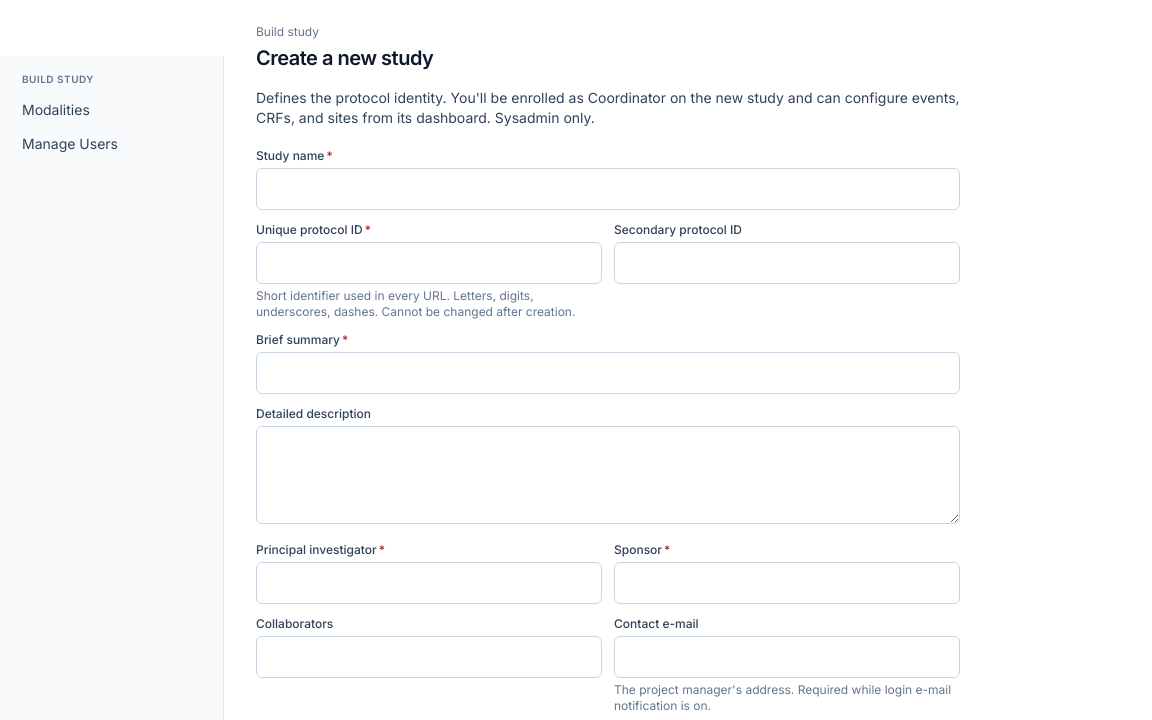
CreateStudyView — pre-submit validation › shows the server’s verdict on a malformed contact e-mail next to the field
Type "Glaucoma Cohort" into the field with id "study-name".
click(608, 189); type("Glaucoma Cohort")  # box [256,168,960,210]
Type "GLAU01" into the field with id "study-uid".
click(429, 263); type("GLAU01")  # box [256,242,602,284]
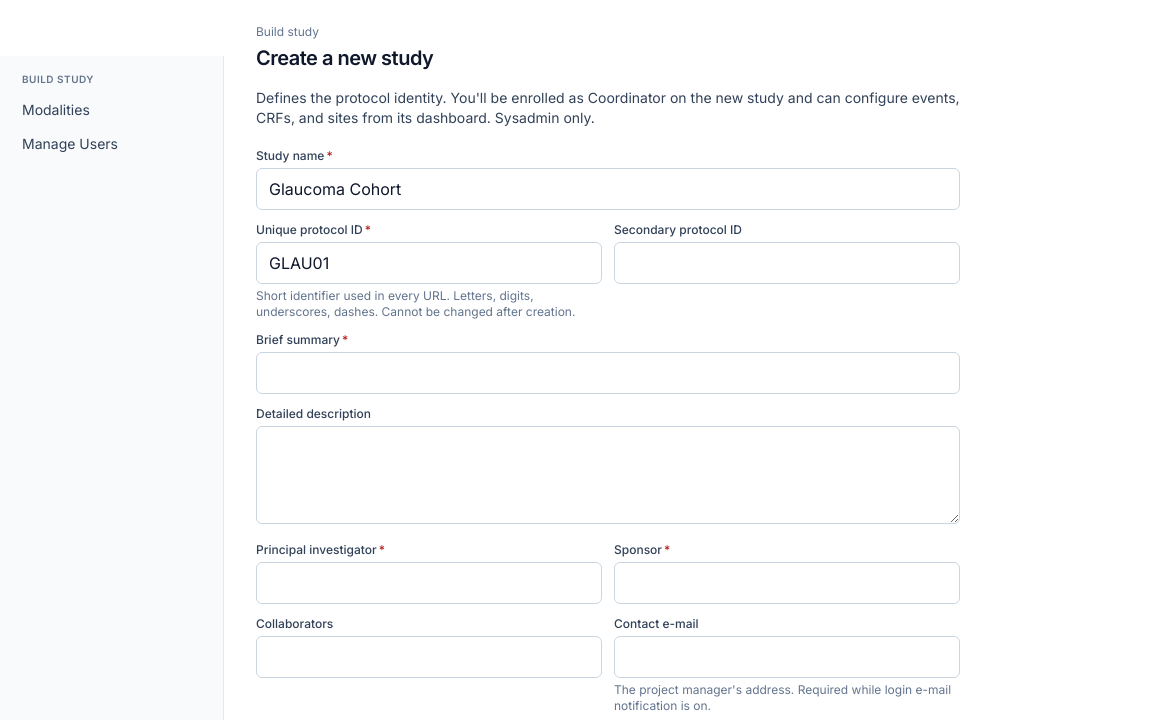
Type "A study" into the field with id "study-summary".
click(608, 373); type("A study")  # box [256,352,960,394]
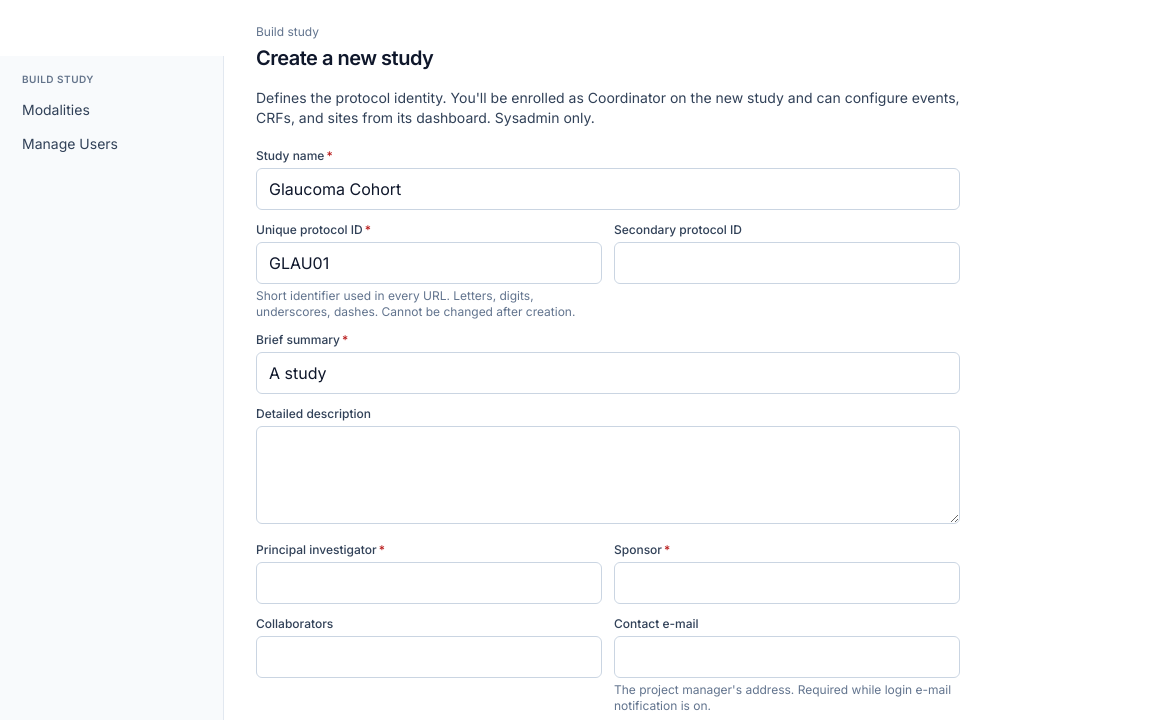
Type "Dr. Vision" into the field with id "study-pi".
click(429, 583); type("Dr. Vision")  # box [256,562,602,604]
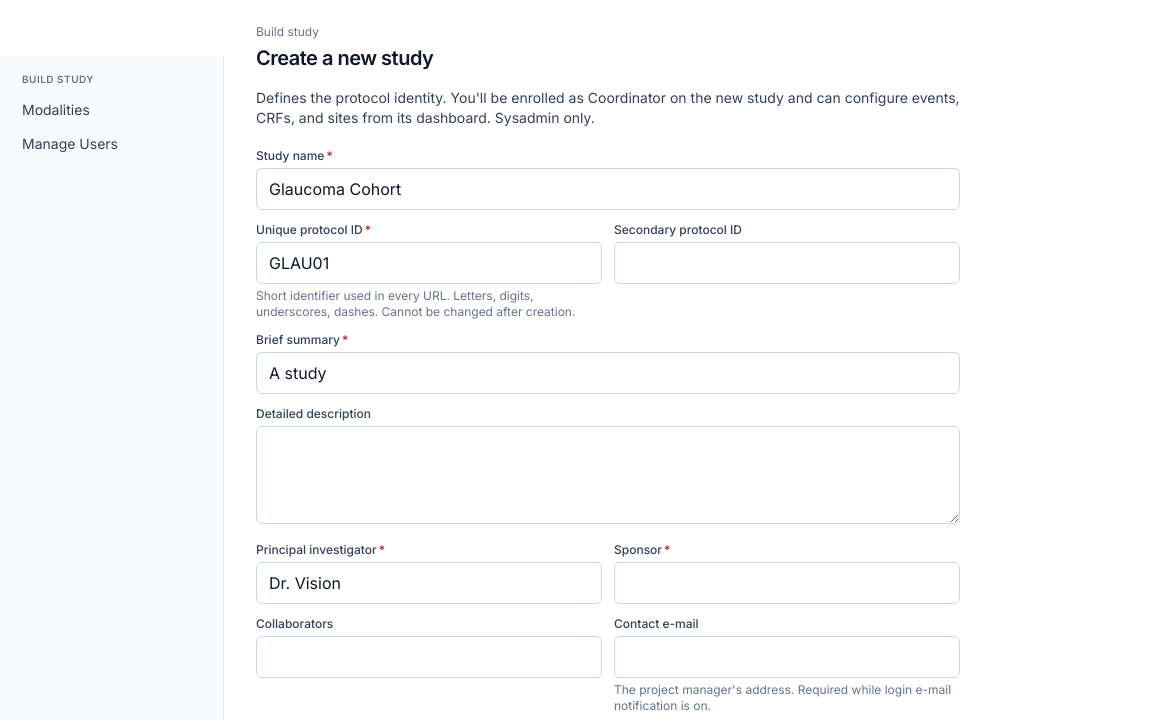
Type "MUW" into the field with id "study-sponsor".
click(787, 583); type("MUW")  # box [614,562,960,604]
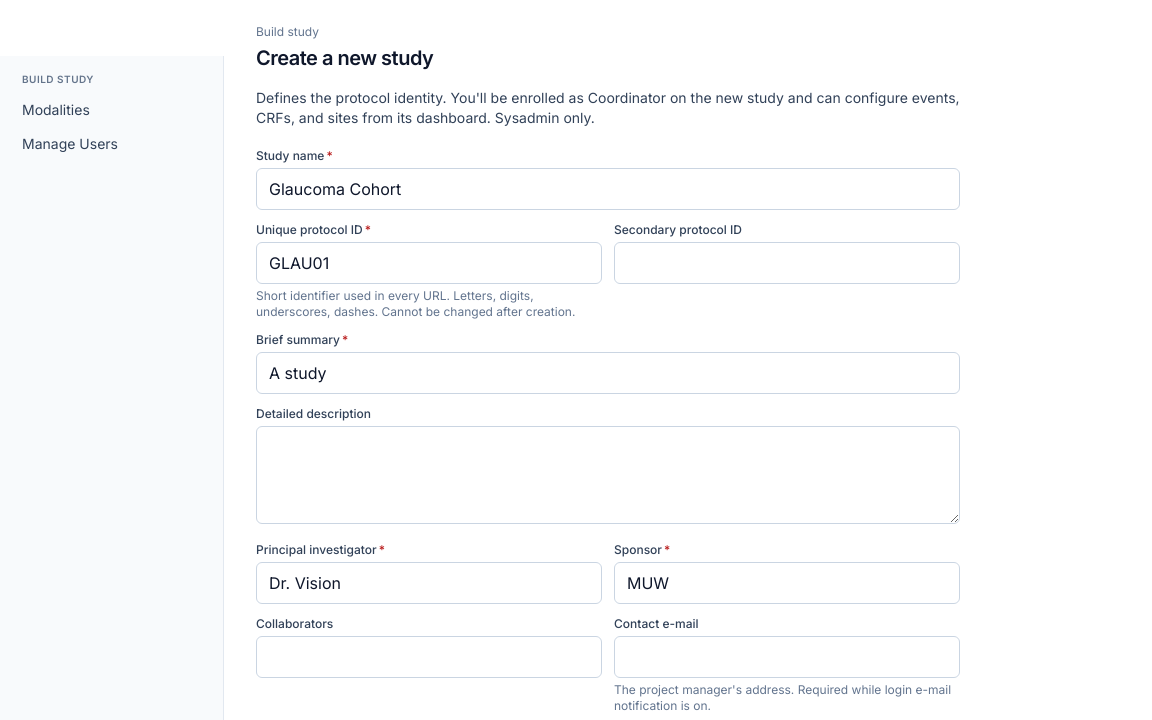
Type "nobody" into the field with id "study-contact-email".
click(787, 657); type("nobody")  # box [614,636,960,678]
(page scrolled)
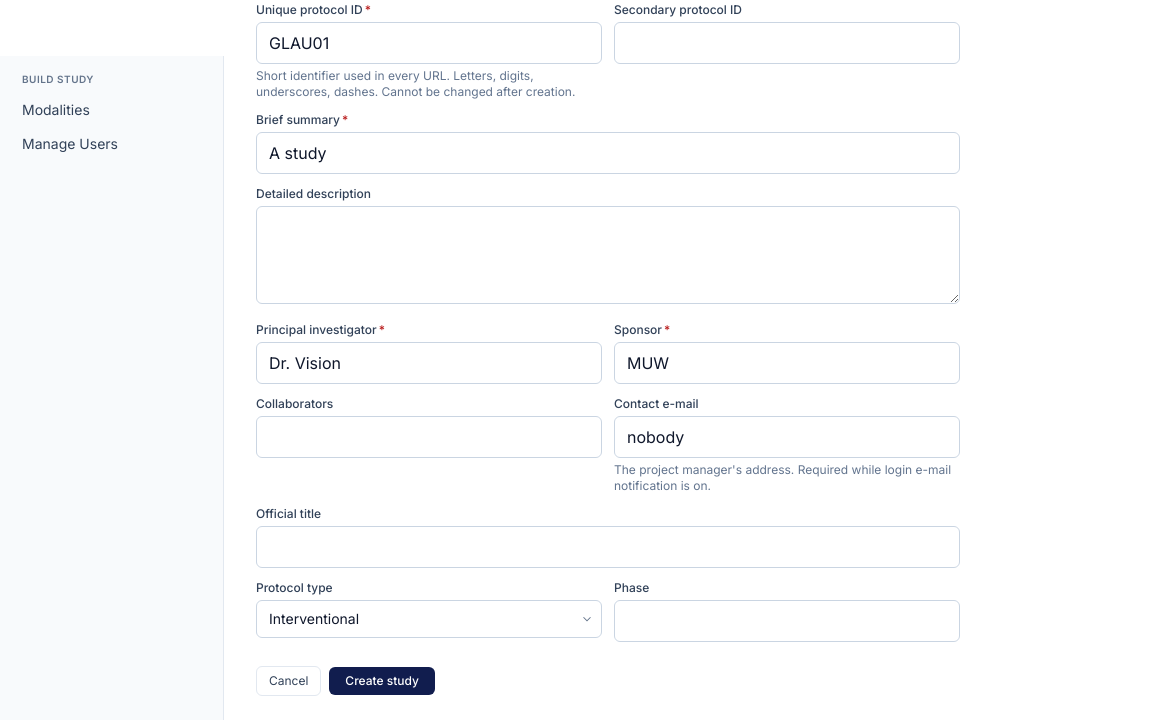
Click the button "Create study".
click(382, 681)  # box [329,667,435,695]
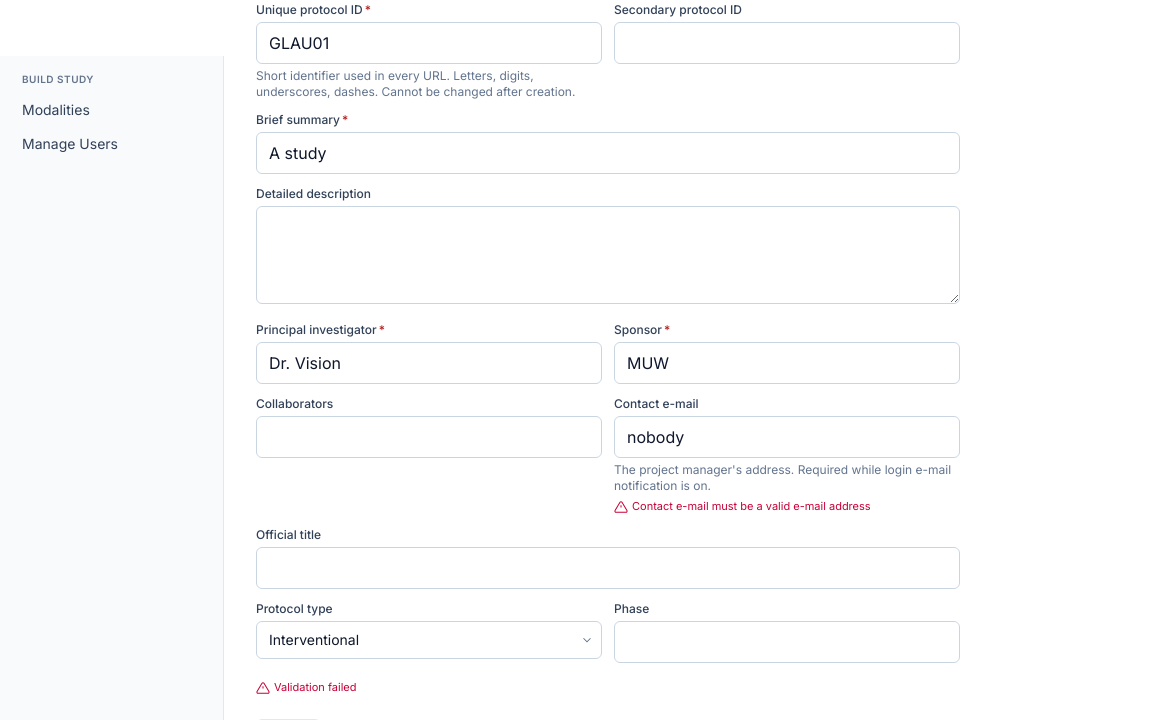
Result: the text "Contact e-mail must be a valid e-mail address" is shown at [632,498,871,514]
